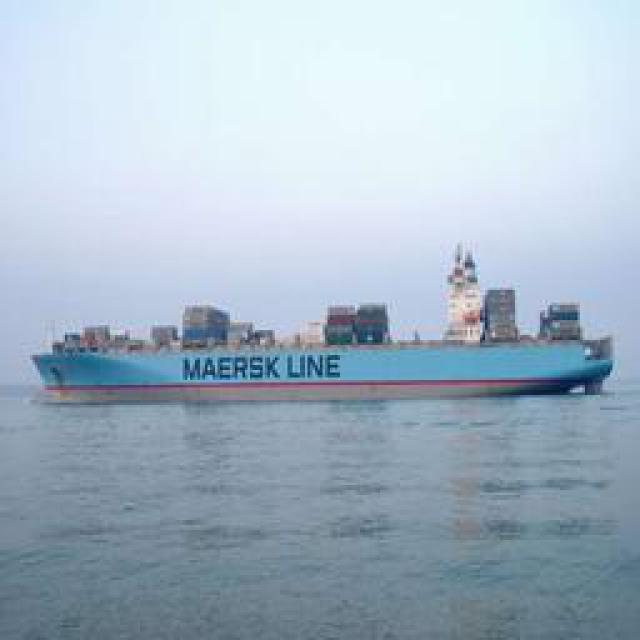Ship: (33, 272, 618, 402)
